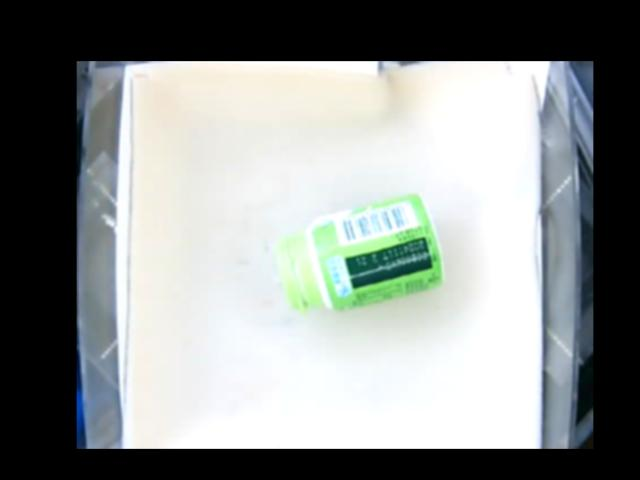Bottle: (279, 192, 446, 313)
